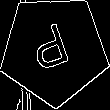P_S: (30, 20, 79, 80)
